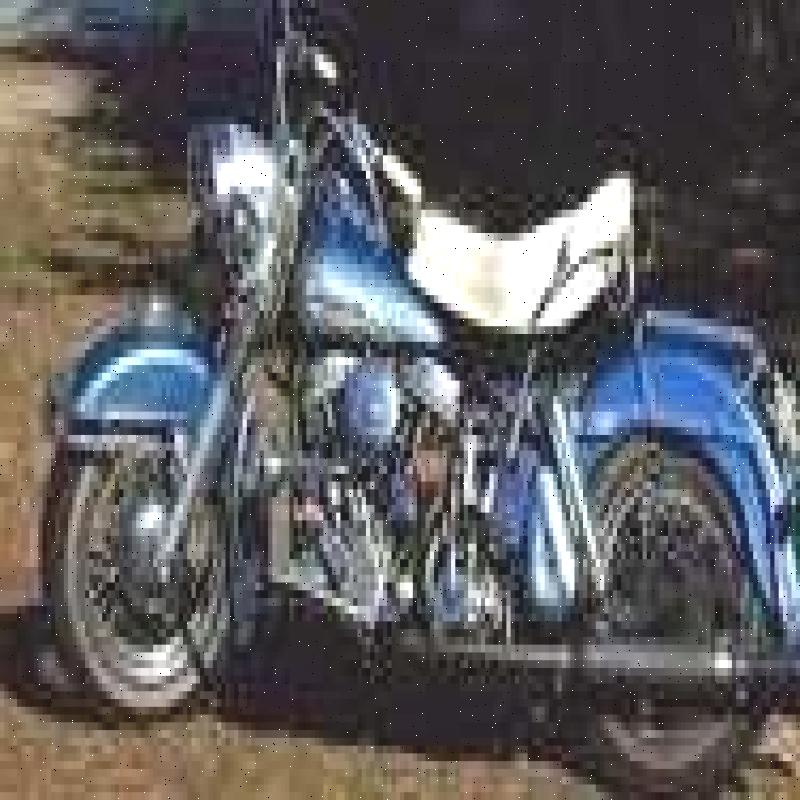bike: (43, 36, 796, 752)
